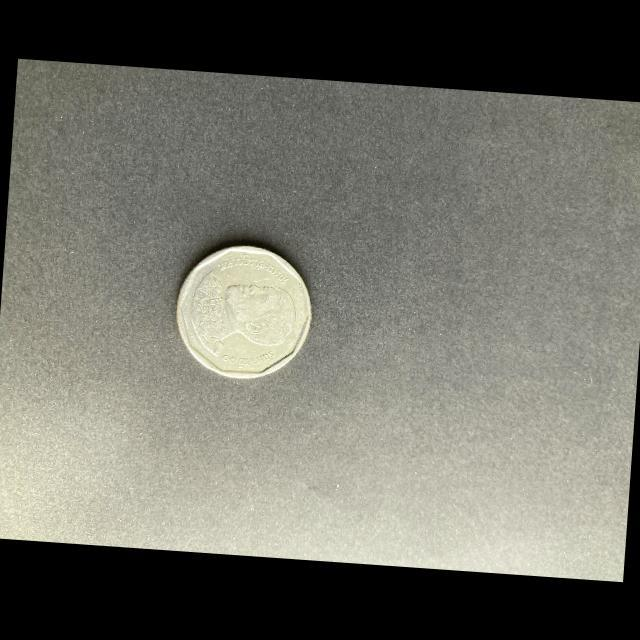5 Bath: (176, 242, 320, 381)
